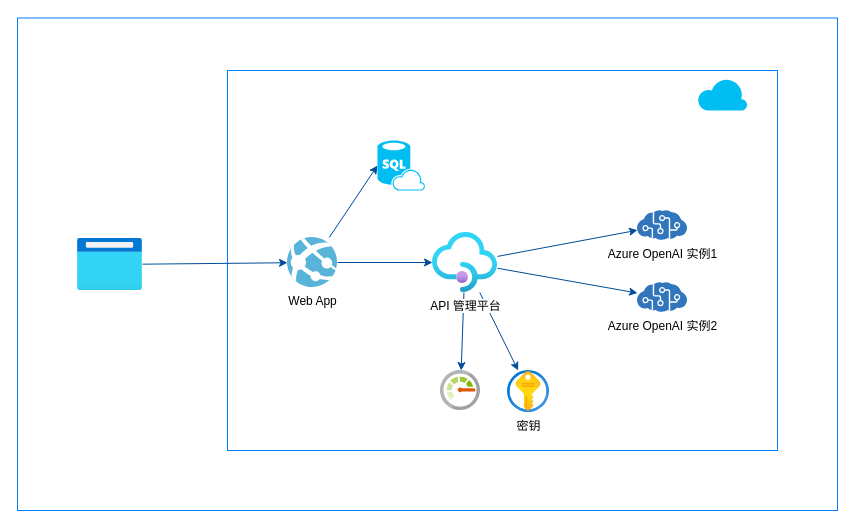
Image size: 855x528. Some labels were removed from this diagram. The centre of each missing label's shape, as x and y in pixels:
Azure: [722,94]
VueJS: [109,264]
监控: [460,390]
